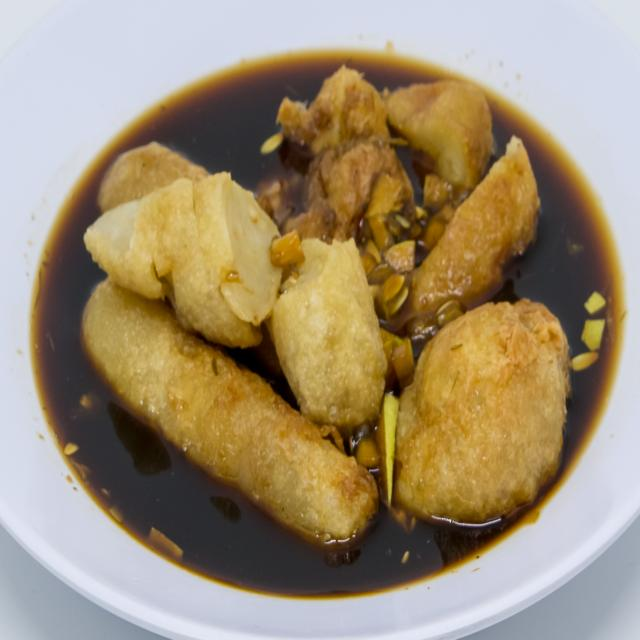Pempek-Palembang: (71, 40, 594, 559)
